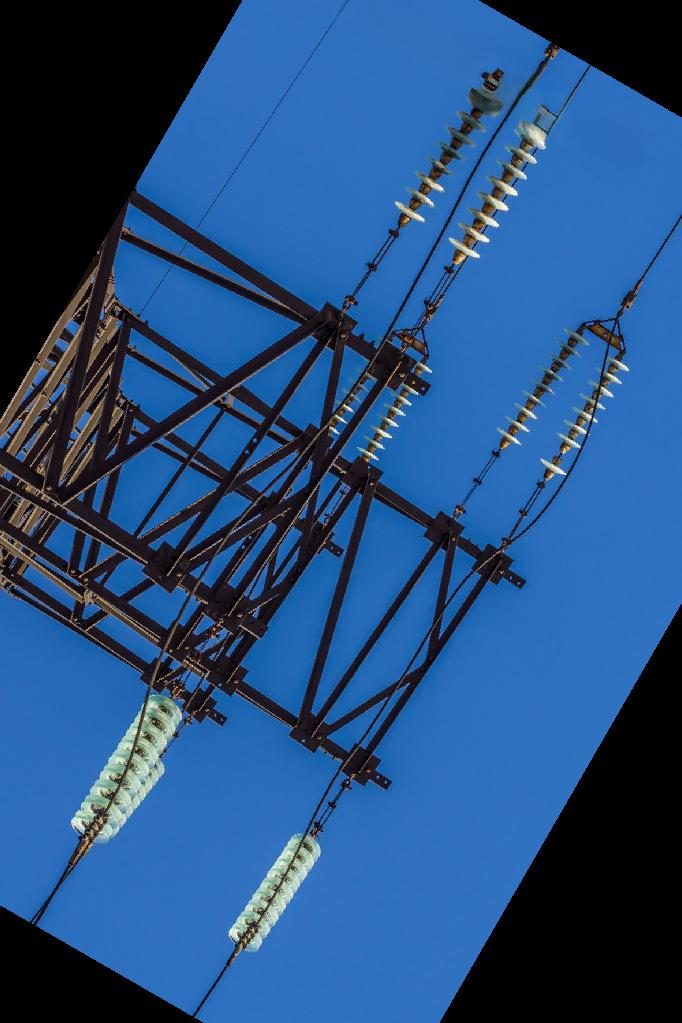insulator: (68, 689, 187, 852), (225, 830, 328, 959), (491, 325, 593, 451), (536, 348, 633, 480), (391, 103, 492, 226), (445, 141, 543, 266), (353, 357, 434, 467)
insulator_stringdrop: (535, 428, 586, 481)
